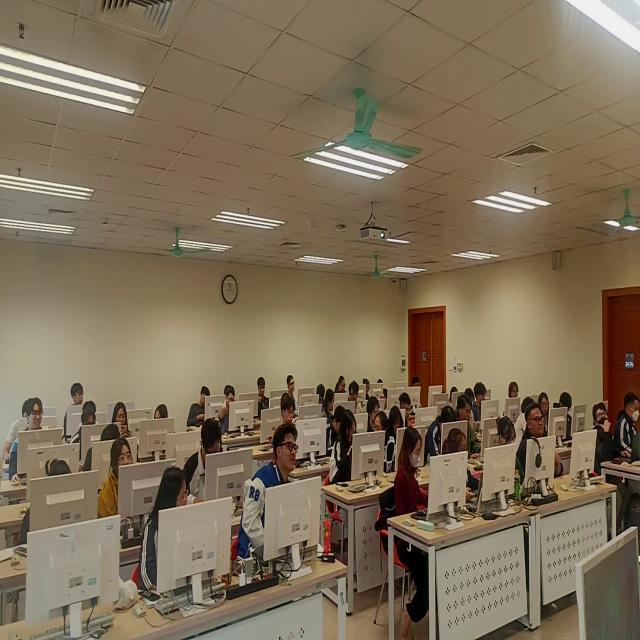raise_head: (241, 421, 302, 566), (517, 403, 564, 476), (10, 398, 46, 484), (591, 401, 616, 470), (540, 390, 554, 434), (257, 375, 270, 418), (71, 379, 87, 411), (507, 377, 523, 402), (287, 373, 299, 403)
using_computer: (21, 457, 73, 540), (394, 426, 431, 517), (187, 415, 226, 501), (443, 423, 483, 504), (99, 438, 137, 518), (496, 413, 526, 499), (83, 422, 121, 474), (424, 406, 457, 463), (616, 390, 640, 457), (4, 396, 29, 457), (457, 396, 482, 455), (72, 404, 99, 449), (219, 387, 238, 437), (558, 390, 576, 439), (326, 406, 343, 455), (400, 390, 418, 429), (391, 406, 407, 443), (475, 378, 490, 417), (367, 395, 380, 434), (411, 372, 424, 408), (466, 386, 477, 424), (335, 372, 348, 397), (449, 385, 462, 408), (315, 382, 326, 407), (363, 376, 371, 401), (384, 388, 390, 407), (377, 376, 384, 390)
using_phone: (186, 385, 212, 429), (113, 400, 134, 439), (278, 396, 298, 425)
